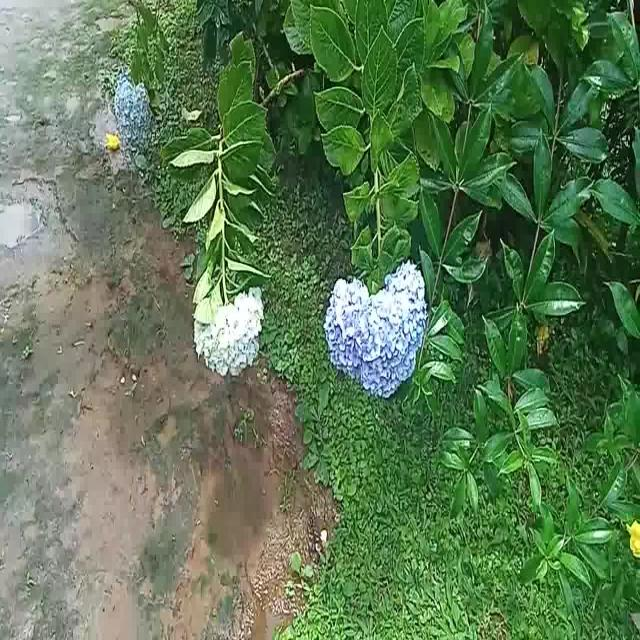Flower: (328, 256, 421, 399), (187, 293, 267, 379), (113, 70, 155, 151)
